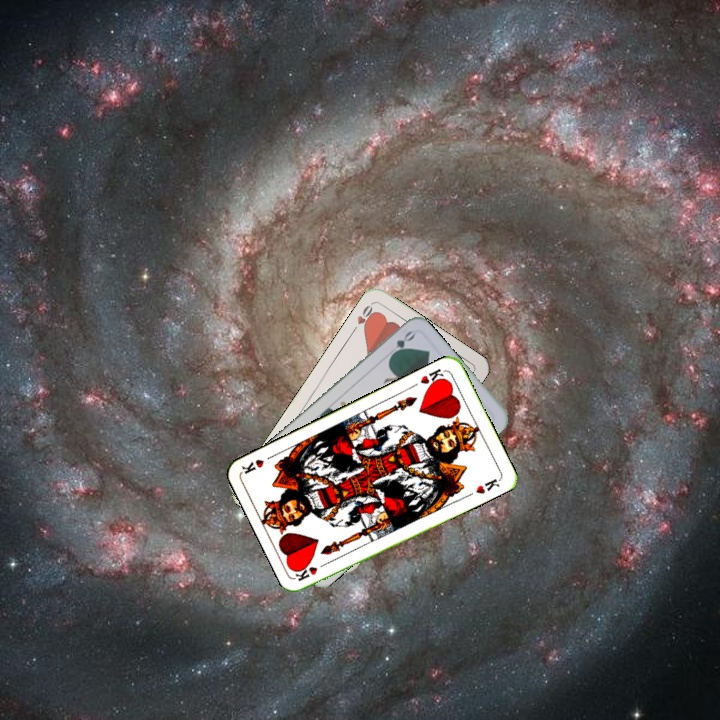GO: (384, 327, 418, 361)
HK: (292, 557, 332, 584), (416, 365, 448, 390)
HO: (348, 299, 378, 336)
